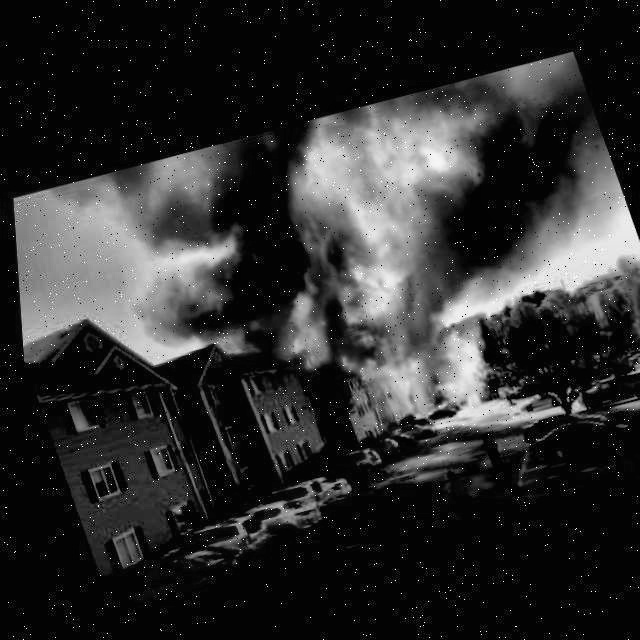Fire: (275, 306, 377, 396), (201, 325, 243, 362)
Smoke: (289, 35, 640, 362), (77, 106, 380, 351)
